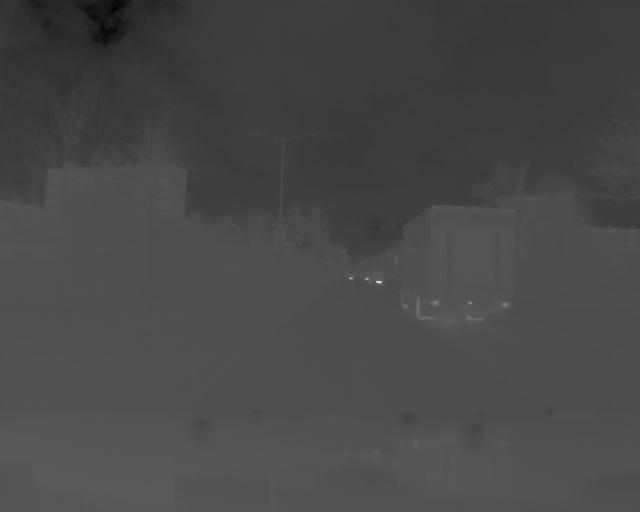car: (397, 205, 515, 325)
